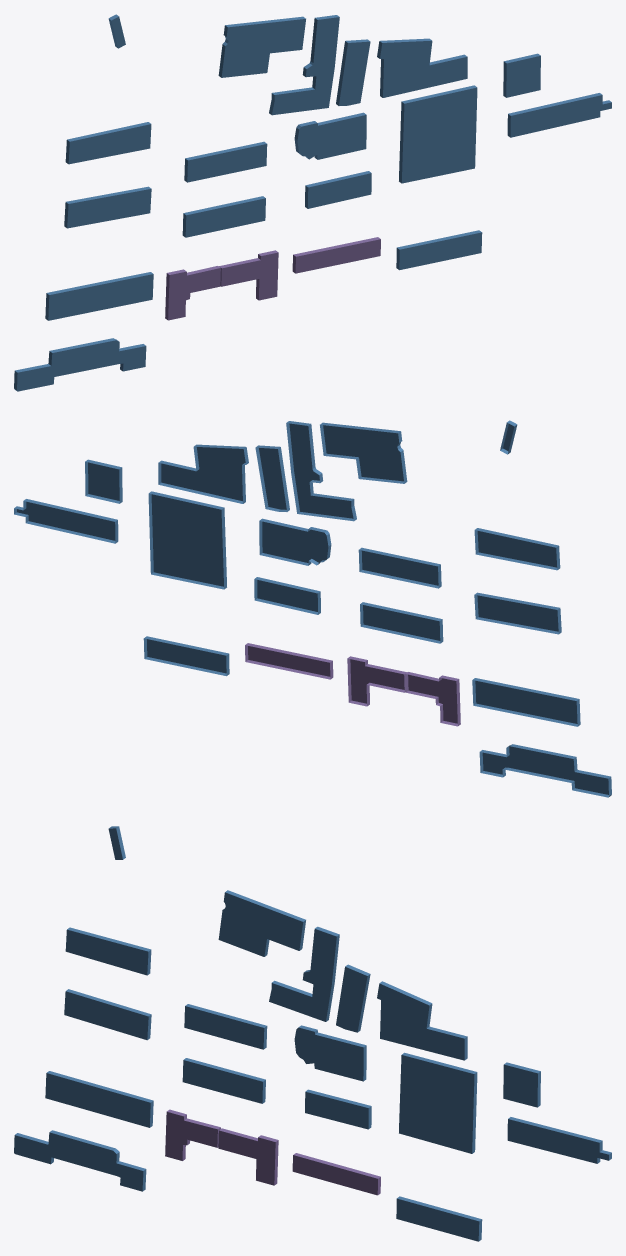
Rendered from buildings_k28.obj.
3 renders of one model, top to bottom at view 1: azimuth 30°, elevation 25°; view 2: azimuth 150°, elevation 25°; view 3: azimuth 330°, elevation 25°, orthographic.
Visible parts, largest first — view 1: roof4, zone4, roof5, zone5; view 2: roof4, zone4, roof5, zone5; view 3: roof4, zone4, roof5, zone5.
Part boxes in pixels (x1,y1,x2,y2): roof4: (17, 16, 611, 391); zone4: (14, 14, 611, 390); roof5: (168, 239, 380, 320); zone5: (165, 237, 380, 319); roof4: (17, 423, 608, 794); zone4: (14, 420, 611, 797); roof5: (248, 646, 457, 723); zone5: (245, 643, 460, 726); roof4: (14, 828, 608, 1241); zone4: (15, 826, 611, 1241); roof5: (165, 1112, 377, 1195); zone5: (167, 1109, 380, 1194).
Size of the model in its own units: 501 by 287 by 4.33.
